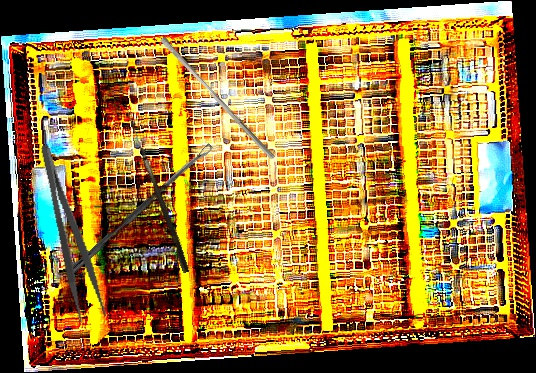Dressing Forceps: (35, 138, 109, 326)
Hook Surgical: (119, 110, 193, 274)
Pusher: (155, 35, 281, 161)
Surgical Spoon: (66, 143, 215, 277)
